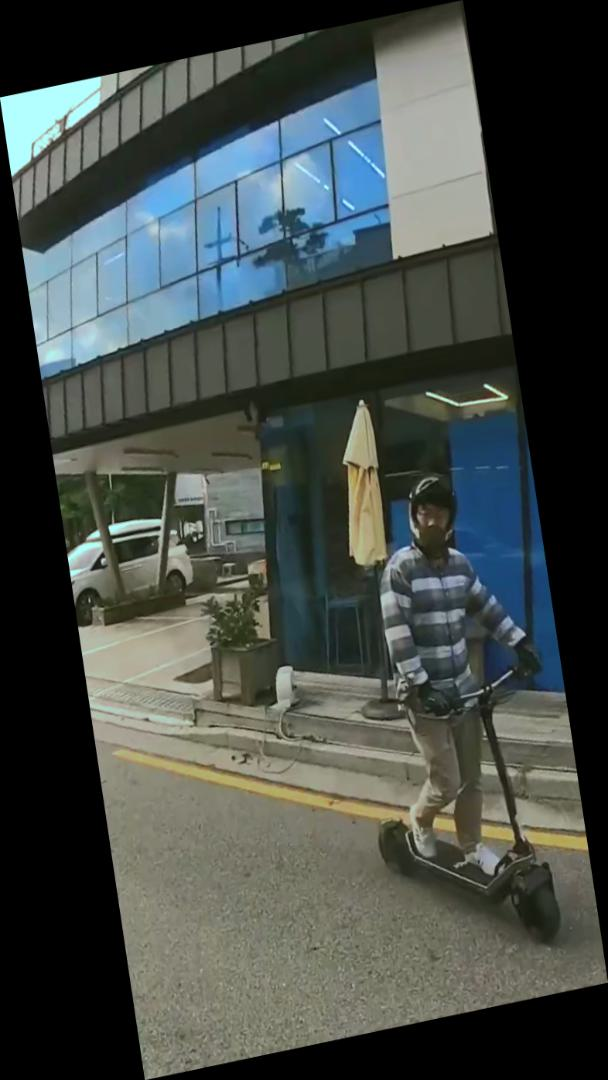helmet: (323, 453, 588, 980)
